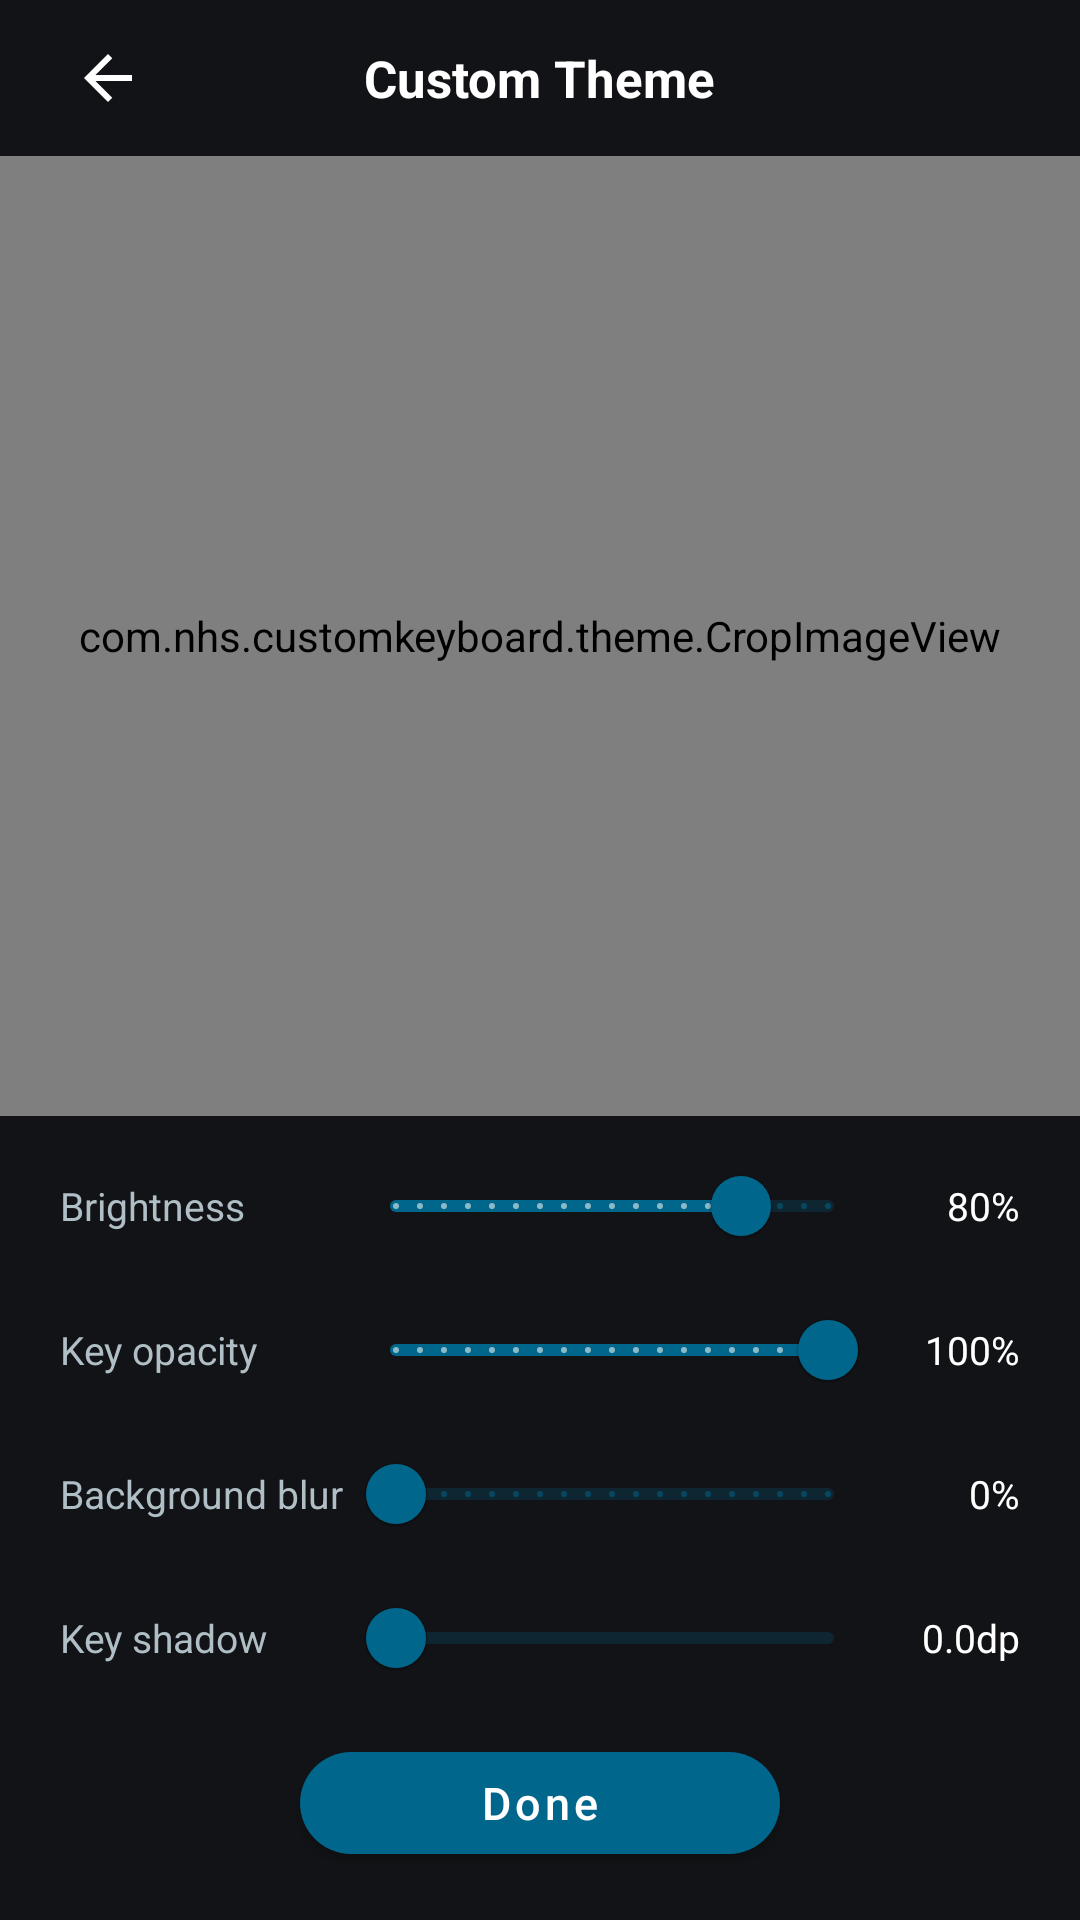

Named icons in this screenshot (1080px×1920px) and their bounding boxes, {"x1": x1, "y1": y1, "x2": x2, "y2": y2}:
Cancel: {"x1": 84, "y1": 54, "x2": 132, "y2": 102}
